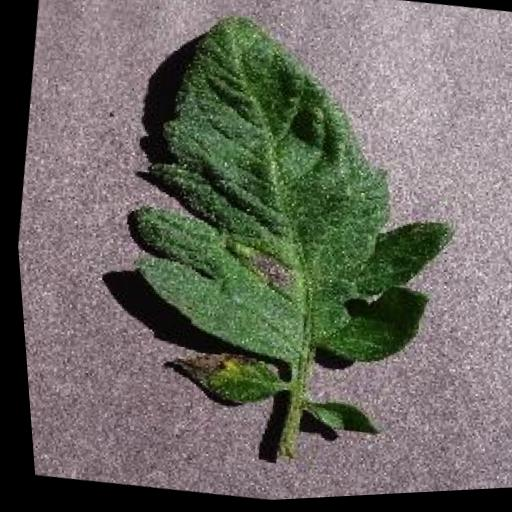Early Blight: (89, 0, 483, 442)
